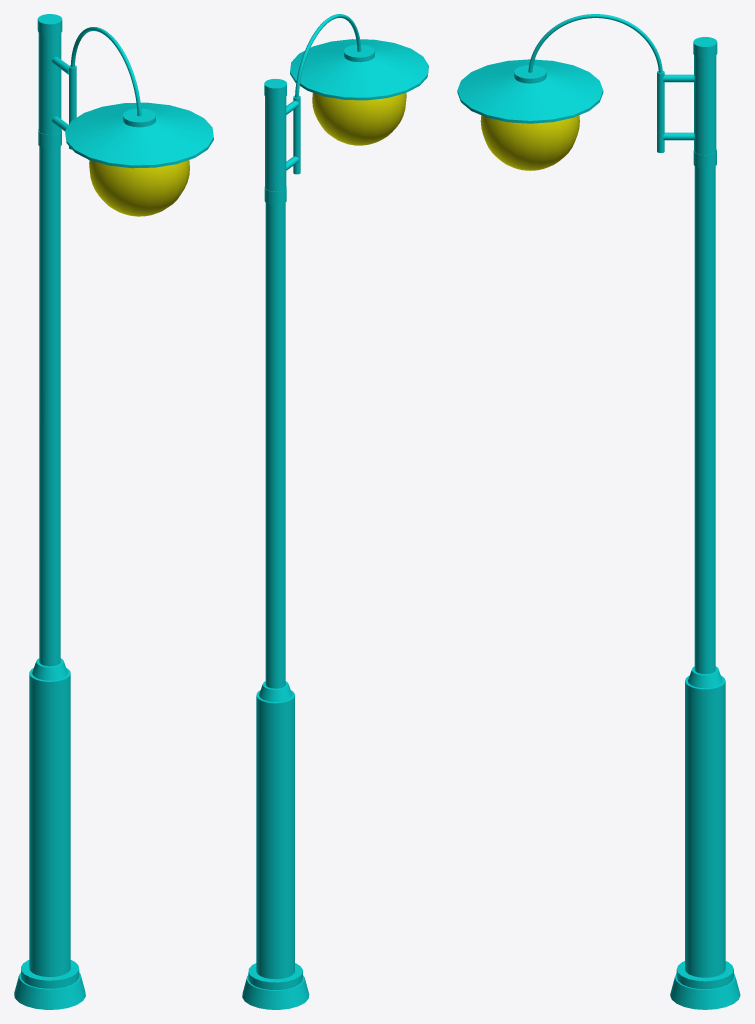
File: Streetlamp.fbx
The picture shows the model from 3 angles, left to right: view 1: azimuth 30°, elevation 25°; view 2: azimuth 150°, elevation 25°; view 3: azimuth 270°, elevation 25°; orthographic projection. The views are drawn at different scales.
Visible parts, largest first — view 1: Streetlamp; view 2: Streetlamp; view 3: Streetlamp.
Boxes of the visible parts, box(x1,y1,x2,y2) form: Streetlamp: box(14, 14, 213, 1009); Streetlamp: box(242, 14, 428, 1009); Streetlamp: box(457, 14, 740, 1009).
Size of the model in its own units: 23.6 by 175 by 45.81.
